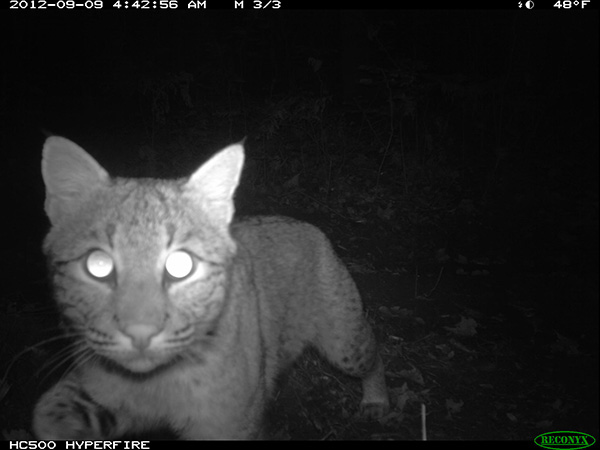bobcat: (20, 121, 392, 448)
